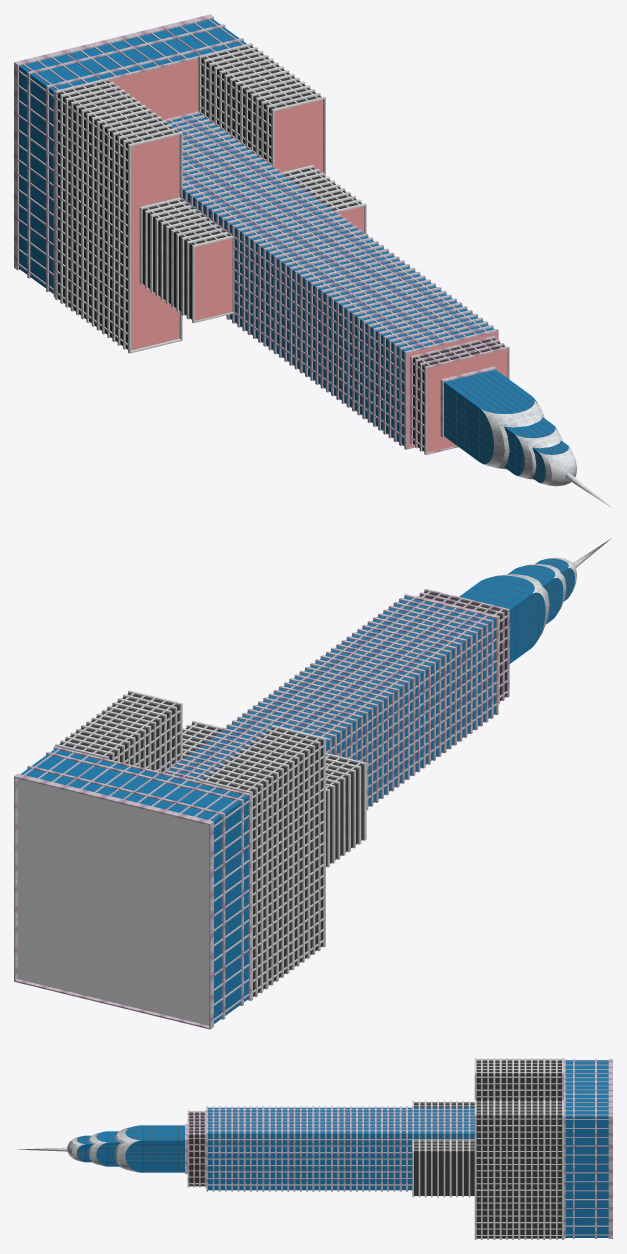
File: Sky100.obj
3 views of the same model, one above another, from view 1: azimuth 30°, elevation 25°; view 2: azimuth 150°, elevation 25°; view 3: azimuth 270°, elevation 25° (orthographic). The views are drawn at different scales.
Parts seen in each view (by area): view 1: glass_02, wall_01, wall_09, slab_01, wall_1_04, wall_1_01, glass_1_01, glass_01, wall_04, glass_03, wall_1_02, glass_1_02 (+6 smaller); view 2: Slab_new_01, wall_01, wall_09, glass_02, wall_1_01, wall_1_04, glass_1_01, glass_01, wall_04, glass_03, wall_1_02, wall_02 (+5 smaller); view 3: glass_02, glass_1_01, wall_01, wall_1_01, glass_01, wall_04, wall_1_02, glass_03, glass_1_02, wall_03, wall_1_04, glass_1_03 (+5 smaller).
Boxes of the visible parts, <box> form: glass_02: <box>167,114,494,445</box>; wall_01: <box>27,24,498,449</box>; wall_09: <box>17,17,509,454</box>; slab_01: <box>109,59,507,452</box>; wall_1_04: <box>56,44,611,507</box>; wall_1_01: <box>55,43,365,353</box>; glass_1_01: <box>57,46,321,349</box>; glass_01: <box>19,18,246,293</box>; wall_04: <box>169,115,486,437</box>; glass_03: <box>444,369,569,483</box>; wall_1_02: <box>56,45,318,345</box>; glass_1_02: <box>142,167,361,319</box>; Slab_new_01: <box>17,778,208,1025</box>; wall_01: <box>27,594,498,1019</box>; wall_09: <box>14,589,508,1029</box>; glass_02: <box>165,597,495,806</box>; wall_1_01: <box>55,690,366,1000</box>; wall_1_04: <box>55,538,611,1000</box>; glass_1_01: <box>59,693,322,996</box>; glass_01: <box>20,749,248,1023</box>; wall_04: <box>172,598,496,798</box>; glass_03: <box>459,558,574,663</box>; wall_1_02: <box>62,693,323,992</box>; wall_02: <box>14,773,213,1029</box>; glass_02: <box>208,1107,474,1190</box>; glass_1_01: <box>476,1059,561,1238</box>; wall_01: <box>206,1059,596,1238</box>; wall_1_01: <box>412,1058,563,1239</box>; glass_01: <box>565,1060,608,1237</box>; wall_04: <box>208,1109,474,1185</box>; wall_1_02: <box>476,1059,561,1235</box>; glass_03: <box>77,1125,184,1172</box>; glass_1_02: <box>414,1102,474,1195</box>; wall_03: <box>565,1060,608,1235</box>; wall_1_04: <box>17,1127,140,1171</box>; glass_1_03: <box>189,1111,204,1186</box>.
Size of the model in its own units: 2606 by 2640 by 11513.
Materials: 7 (2 with a texture image).
